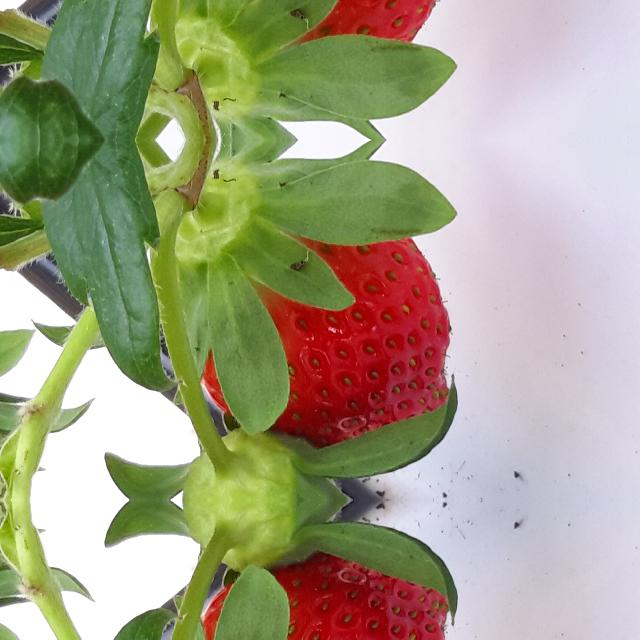Health_100: (203, 237, 453, 448), (203, 551, 453, 640)
